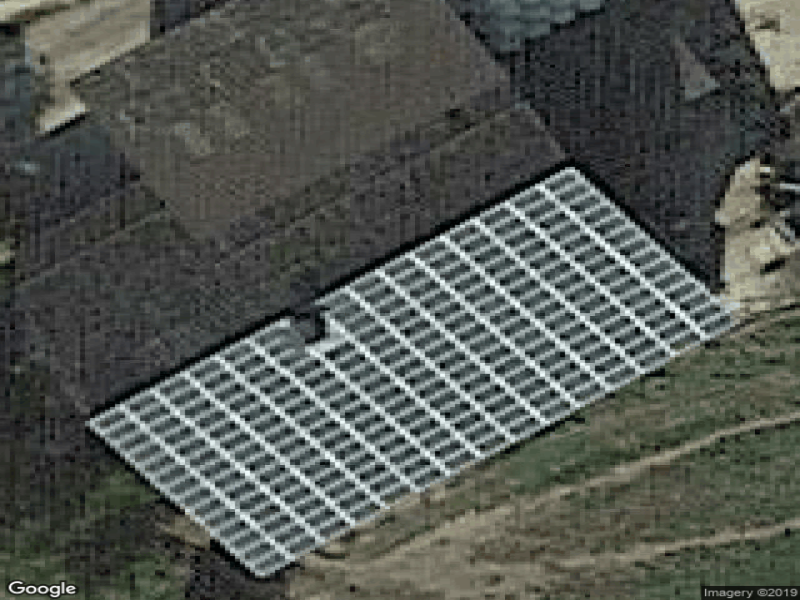pv: (83, 169, 737, 577)
